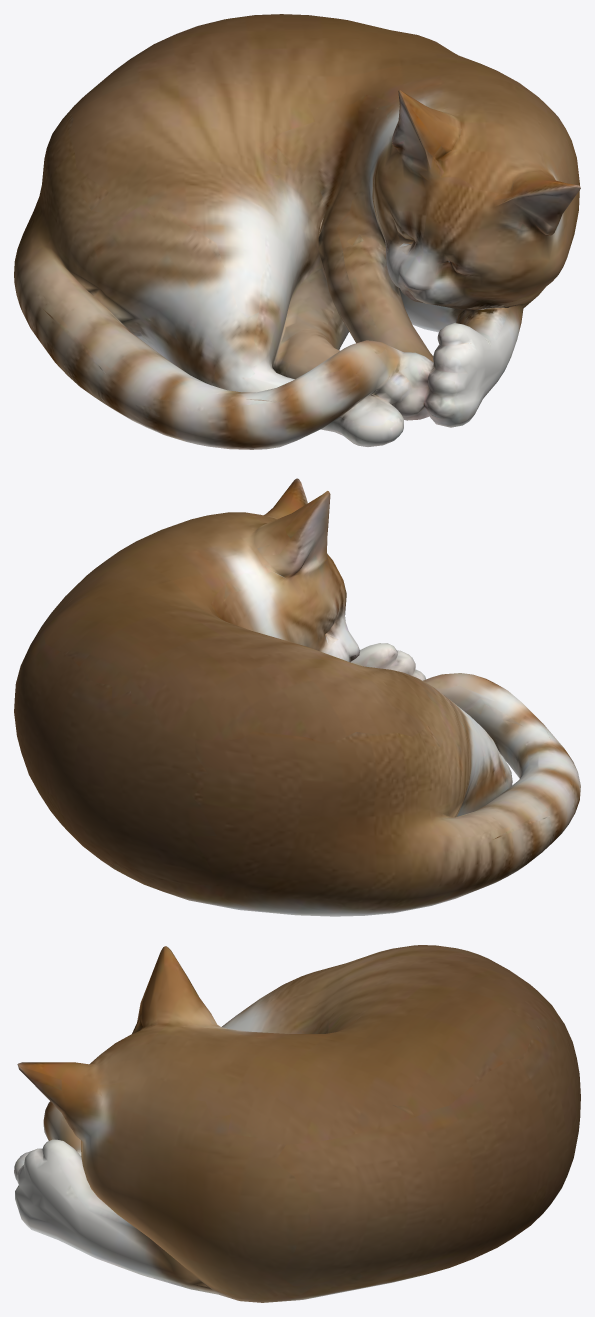
The model's file is cat-sleep.glb.
3 renders of one model, top to bottom at view 1: azimuth 30°, elevation 25°; view 2: azimuth 150°, elevation 25°; view 3: azimuth 270°, elevation 25°, orthographic. The views are drawn at different scales.
Parts seen in each view (by area): view 1: cat-sleep; view 2: cat-sleep; view 3: cat-sleep.
Part boxes in pixels (box(x1,y1,x2,y2)): cat-sleep: box(14, 14, 580, 449); cat-sleep: box(14, 478, 580, 916); cat-sleep: box(14, 945, 580, 1302).
Size of the model in its own units: 0.4152 by 0.2314 by 0.42.
Materials: 1 (1 with a texture image).
